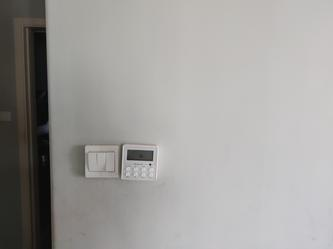switch: (86, 153, 97, 172), (104, 152, 115, 170), (97, 152, 104, 171)
